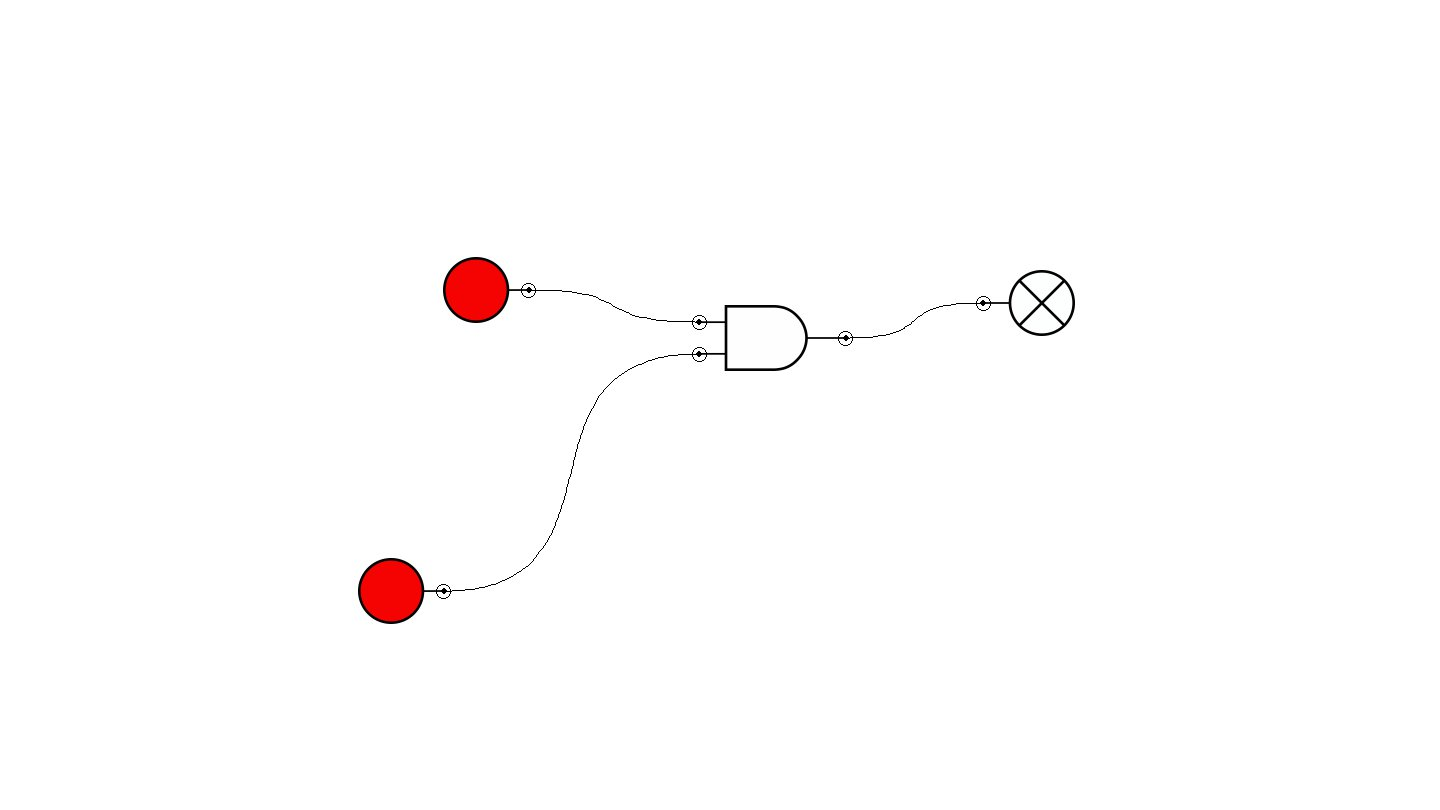and: (692, 305, 853, 371)
bulb: (976, 270, 1075, 336)
switch_False: (443, 257, 536, 323), (358, 558, 451, 624)
